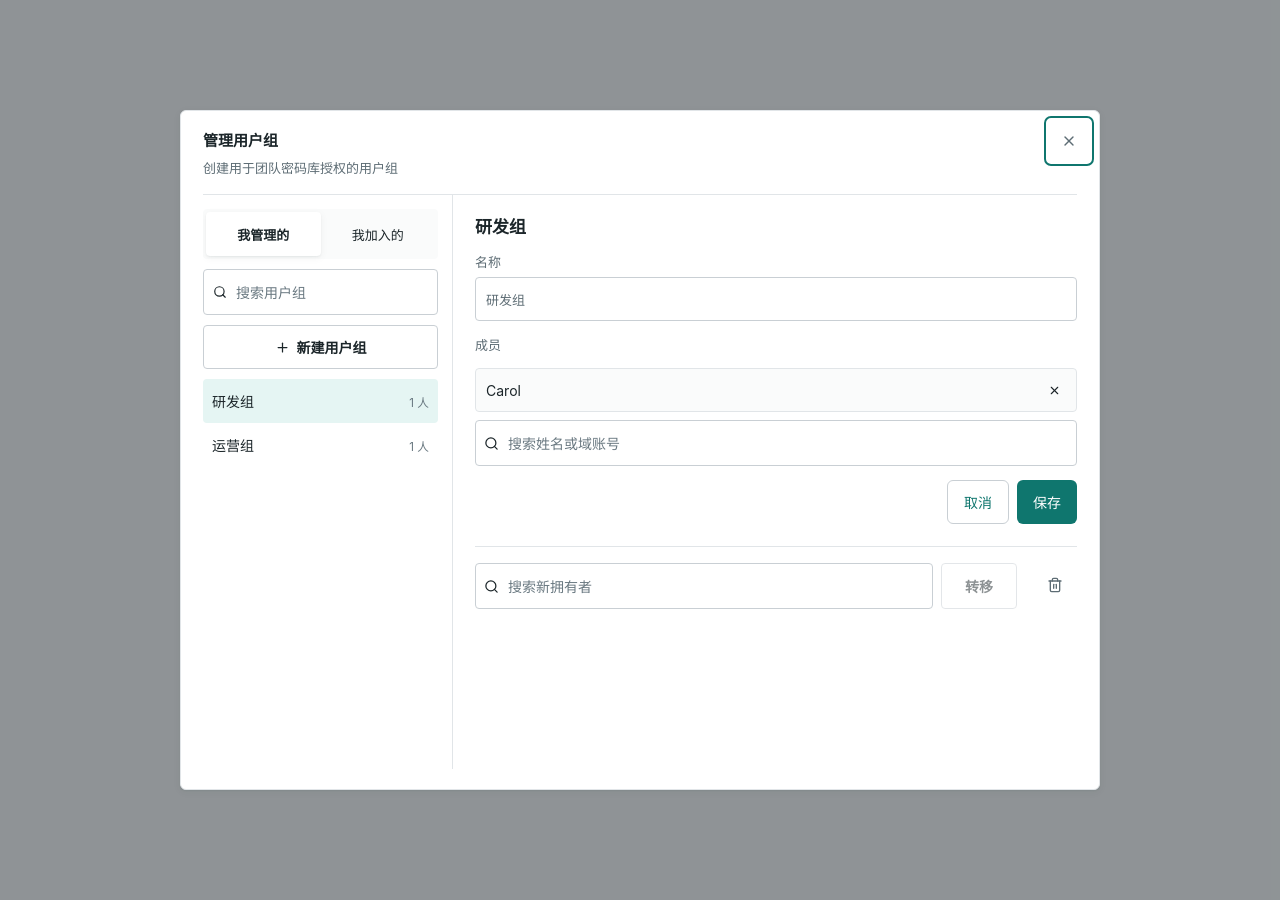
GroupsDialog › moves selection with filtered results and clears stale details
The image size is (1280, 900).
Expected: the heading "研发组" is shown, [475,213,526,238]
Type "运营" into the field labelled "搜索用户组" at coordinates (331, 292), box [234,270,428,314]
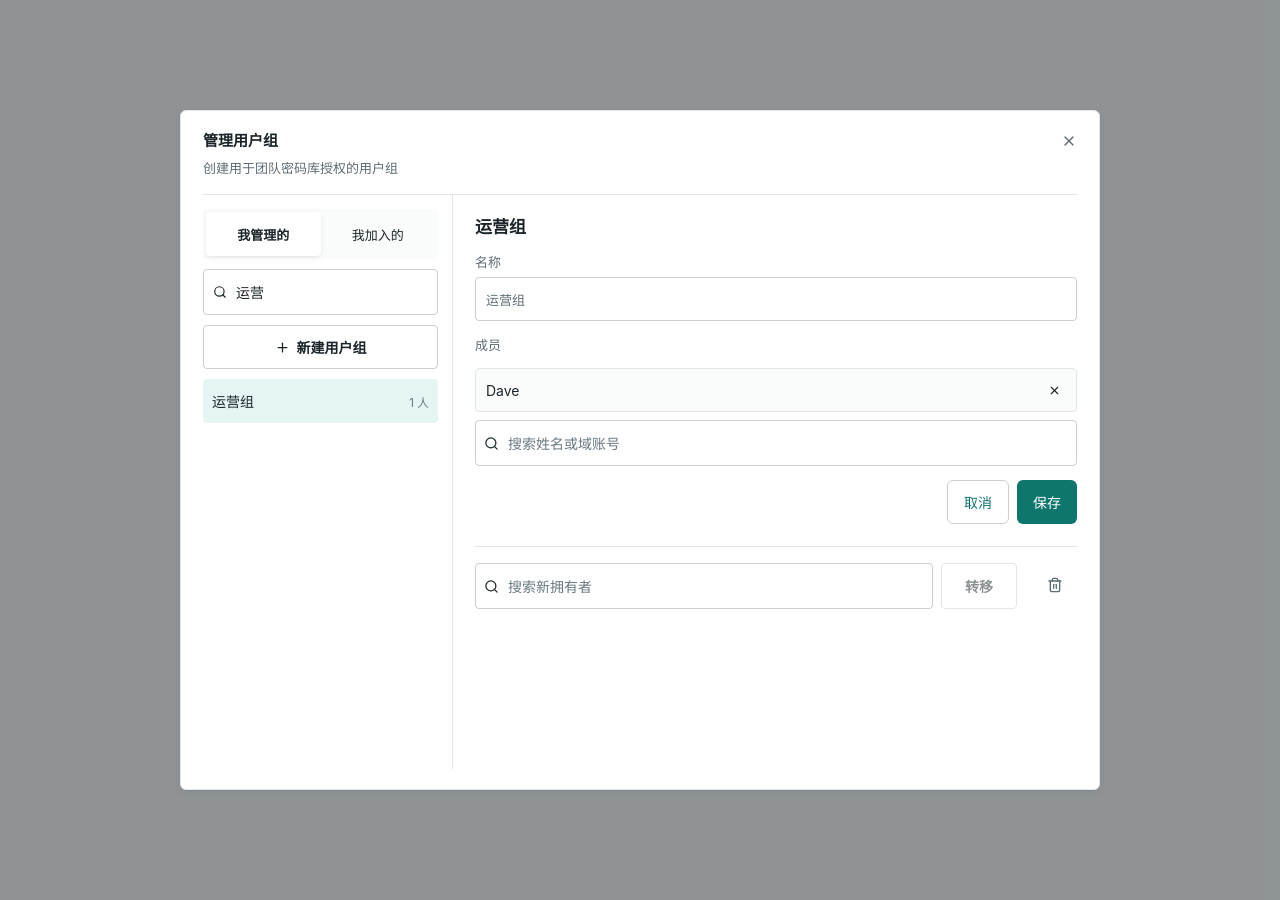
Expected: the heading "运营组" is shown, [475,213,526,238]
Expected: the button "研发组" is gone
Replace the text in the field named "搜索用户组" with "不存在" at coordinates (331, 292), box [234,270,428,314]
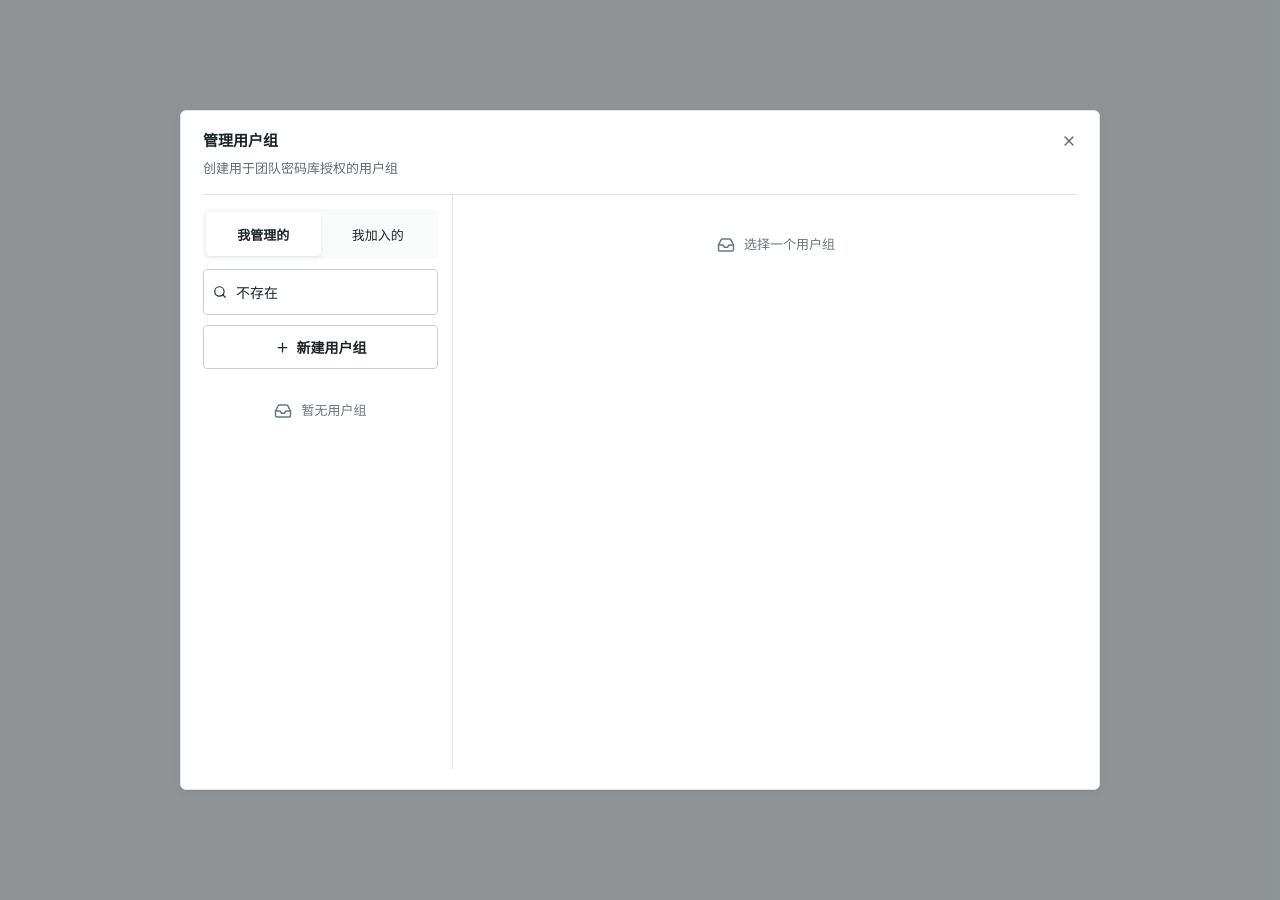
Expected: the text "暂无用户组" is shown, [302,401,366,421]
Expected: the button "运营组" is gone
